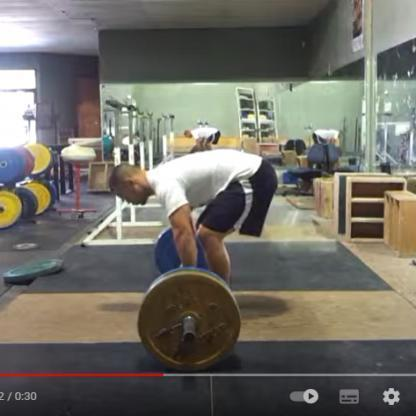barbell: (138, 224, 240, 375)
